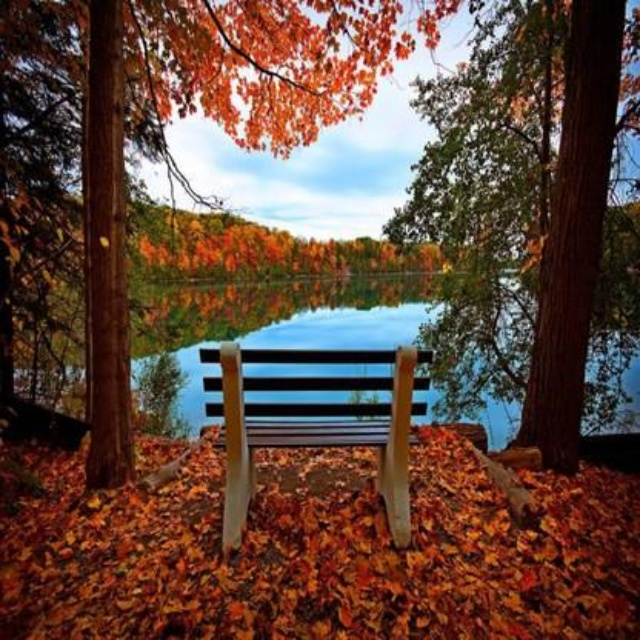obstacle: (195, 314, 455, 563)
